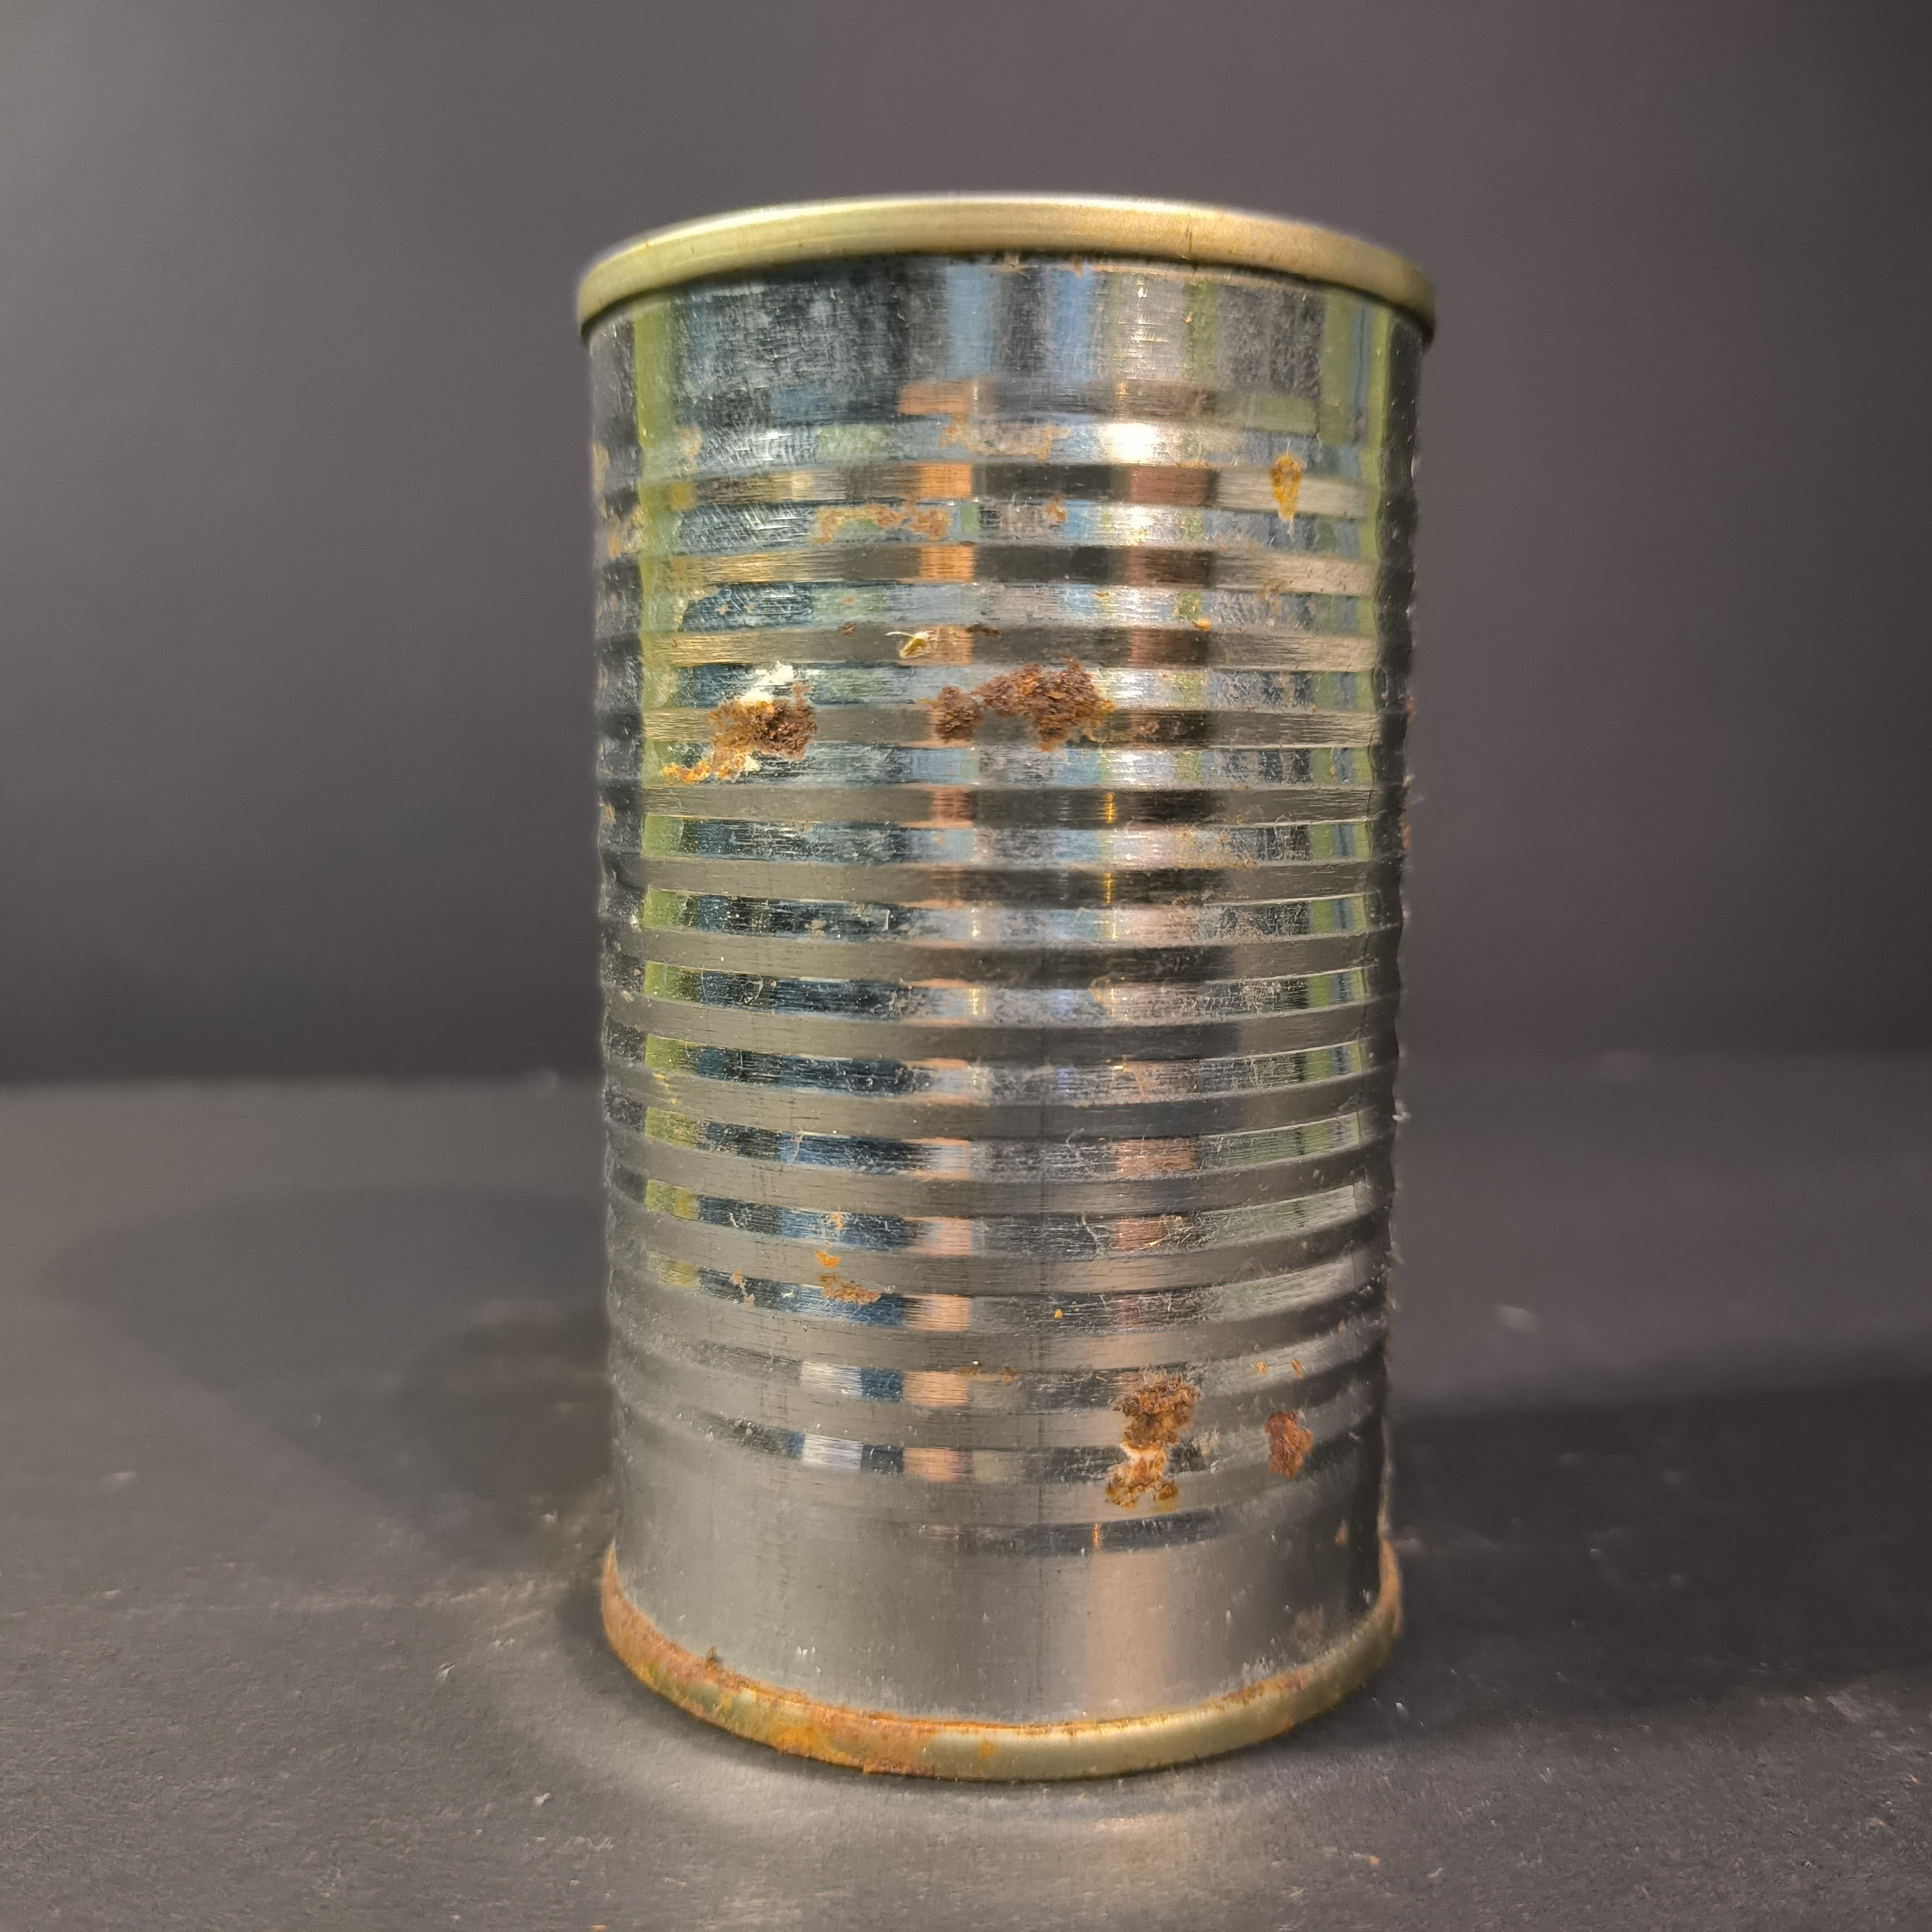Rusted: (531, 156, 1474, 1808)
